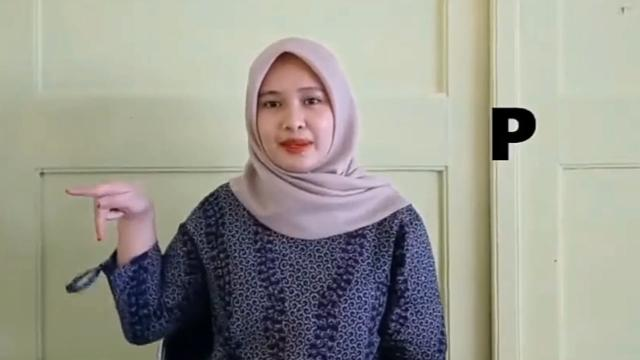P: (62, 178, 160, 244)
